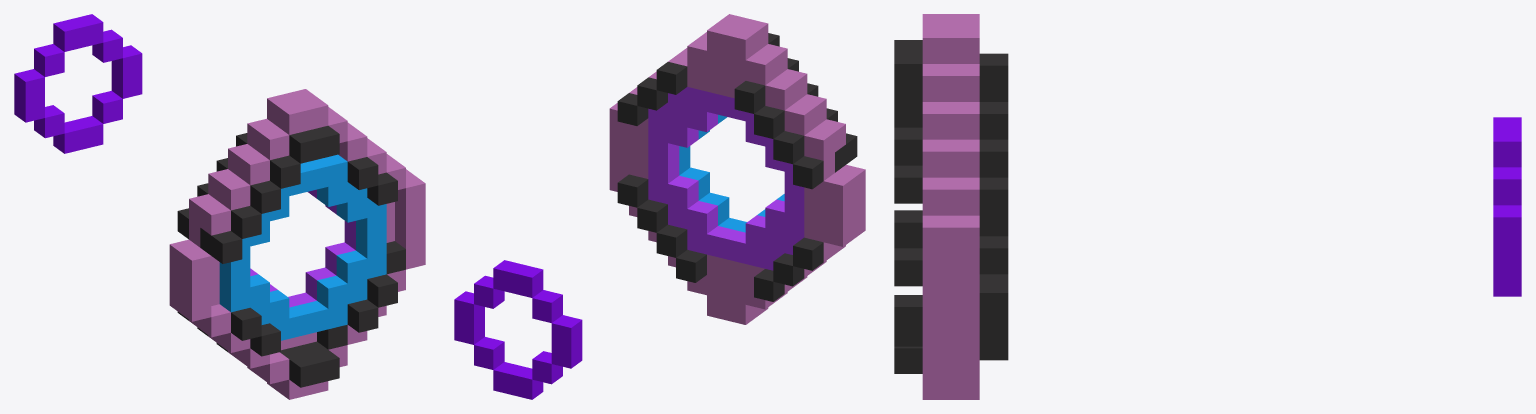
File: luzesbrancas.obj
The picture shows the model from 3 angles, left to right: view 1: azimuth 30°, elevation 25°; view 2: azimuth 150°, elevation 25°; view 3: azimuth 270°, elevation 25°; orthographic projection. The views are drawn at different scales.
Parts seen in each view (by area): view 1: ObjObject.002, ObjObject.003; view 2: ObjObject.002, ObjObject.003; view 3: ObjObject.002, ObjObject.003.
Boxes of the visible parts, x1,y1,x2,y2 form: ObjObject.002: [169, 89, 425, 399]; ObjObject.003: [14, 14, 142, 153]; ObjObject.002: [609, 14, 865, 324]; ObjObject.003: [454, 260, 582, 399]; ObjObject.002: [894, 14, 1008, 399]; ObjObject.003: [1493, 117, 1521, 296].
Size of the model in its own units: 1.2 by 1.4 by 2.2.
2 materials, 2 textured.
